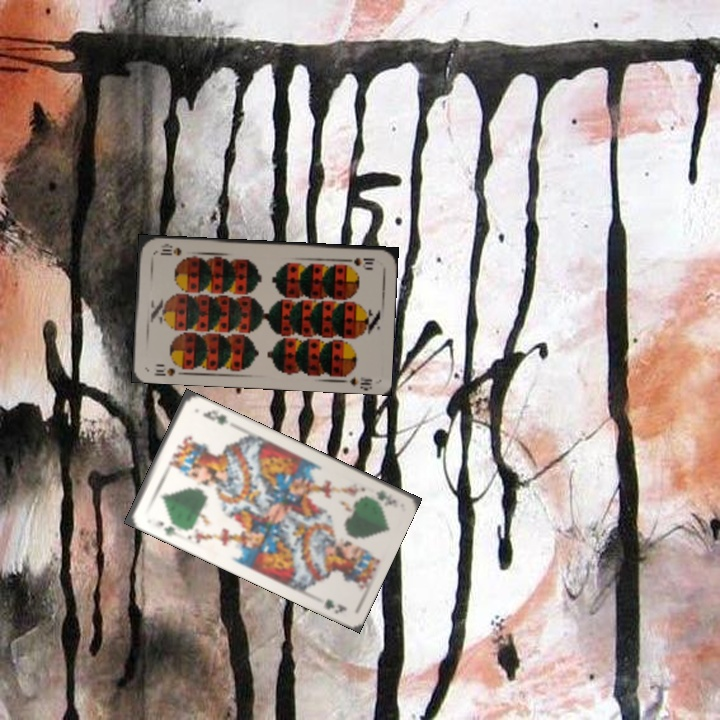GK: (151, 517, 183, 539), (371, 486, 399, 507)
S10: (341, 253, 378, 268), (150, 364, 177, 379)
